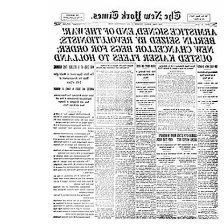news_paper: (50, 3, 224, 224)
